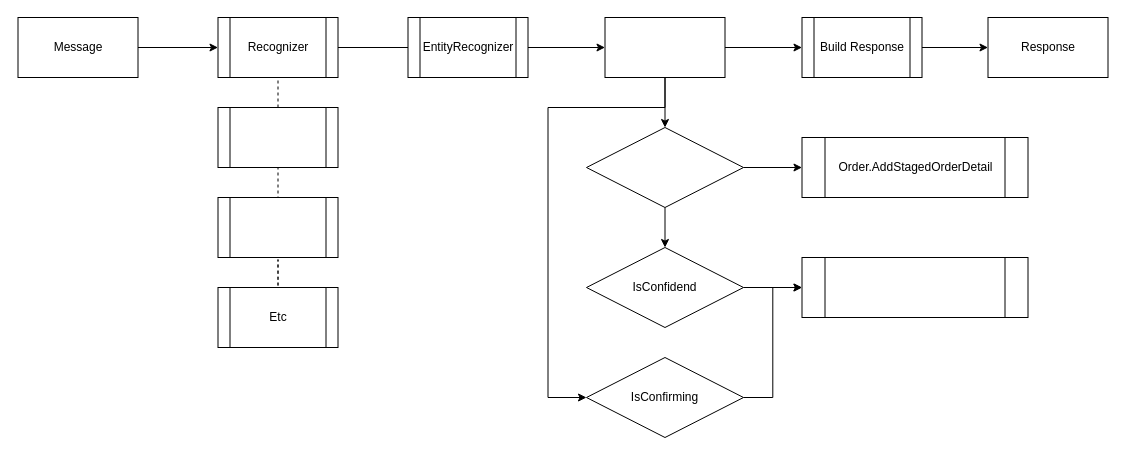
This 1125x455 diagram has some shape labels left out. The box of each missing label's shape, as (x1, y1, x2, y2) in pixels:
Choice: (217, 196, 338, 258)
HasOrderDetails: (586, 126, 744, 208)
MessageResult: (604, 16, 725, 78)
Number: (217, 106, 338, 168)
Order.AddConfirmedOrderDetail: (801, 256, 1028, 318)
